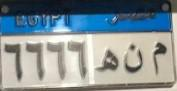0: (121, 42, 145, 73)
6: (67, 36, 91, 83), (46, 37, 66, 78), (26, 38, 44, 80)
م: (149, 39, 167, 80)
ن: (3, 37, 25, 79)
ه: (93, 46, 119, 75)
